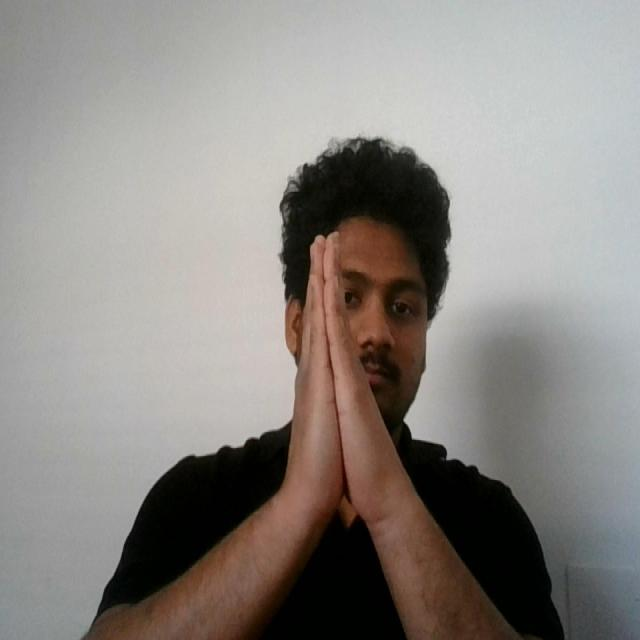Thanks: (269, 224, 429, 541)
